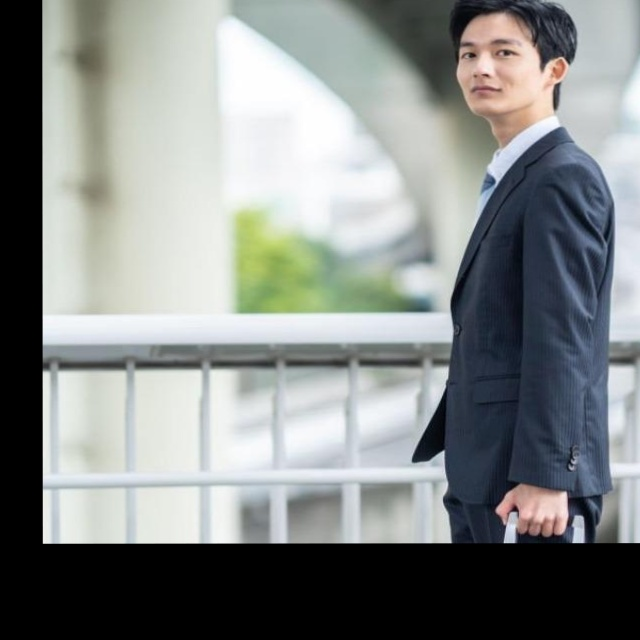Sin_Casco_Mascarrilla: (447, 0, 579, 120)
Sin_Chaleco: (453, 133, 618, 503)
